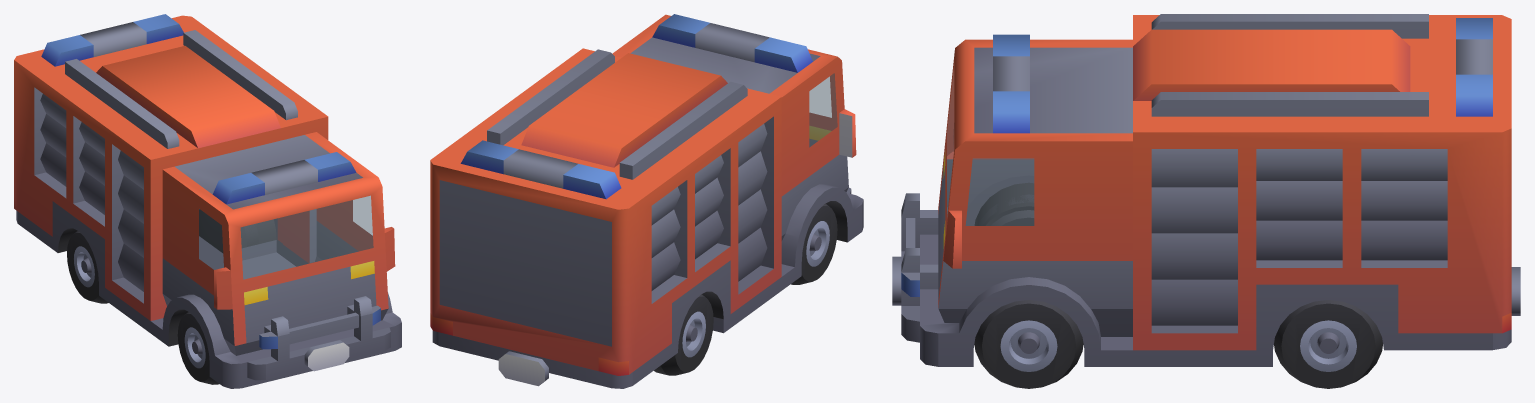
File: firetruck-lod1.glb
The picture shows the model from 3 angles, left to right: view 1: azimuth 30°, elevation 25°; view 2: azimuth 150°, elevation 25°; view 3: azimuth 270°, elevation 25°; orthographic projection. The views are drawn at different scales.
Visible parts, largest first — view 1: body, glass, wheel-front-right, wheel-back-right, wheel-back-left; view 2: body, wheel-back-right, wheel-front-right, glass; view 3: body, wheel-front-left, wheel-back-left, glass, wheel-front-right.
Boxes of the visible parts, x1=… form: body: x1=14, y1=14, x2=401, y2=388; glass: x1=199, y1=195, x2=373, y2=279; wheel-front-right: x1=177, y1=312, x2=219, y2=384; wheel-back-right: x1=67, y1=230, x2=108, y2=303; wheel-back-left: x1=199, y1=209, x2=258, y2=252; body: x1=430, y1=14, x2=863, y2=388; wheel-back-right: x1=654, y1=294, x2=713, y2=375; wheel-front-right: x1=791, y1=203, x2=837, y2=284; glass: x1=809, y1=73, x2=837, y2=146; body: x1=892, y1=14, x2=1520, y2=366; wheel-front-left: x1=974, y1=300, x2=1083, y2=388; wheel-back-left: x1=1274, y1=300, x2=1382, y2=388; glass: x1=947, y1=70, x2=1033, y2=225; wheel-front-right: x1=978, y1=194, x2=1034, y2=225.
Bounding box in the file's own units: 2.55 × 2.89 × 5.78.
Materials: 2 (1 with a texture image).
